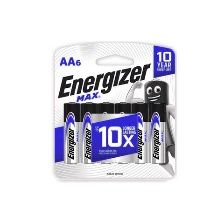battery: (146, 99, 168, 165), (96, 99, 117, 165), (129, 100, 150, 164), (62, 100, 82, 164), (112, 101, 131, 165), (79, 100, 97, 164)
book: (45, 37, 182, 182)
